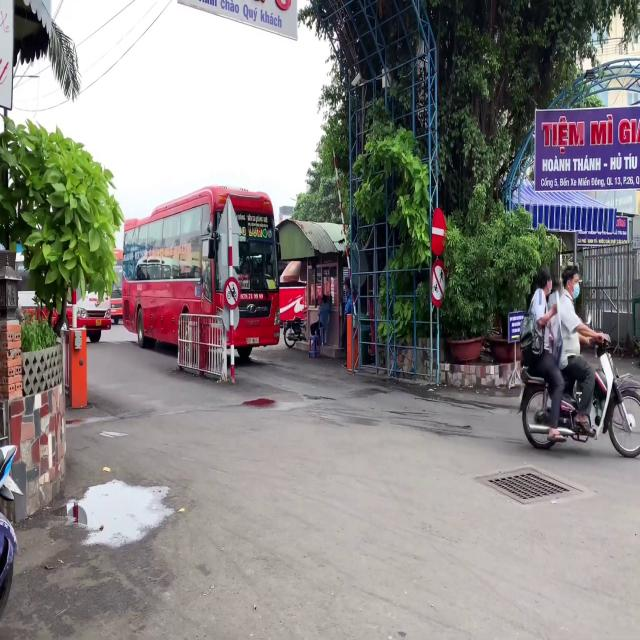bien_trang: (247, 338, 259, 344)
